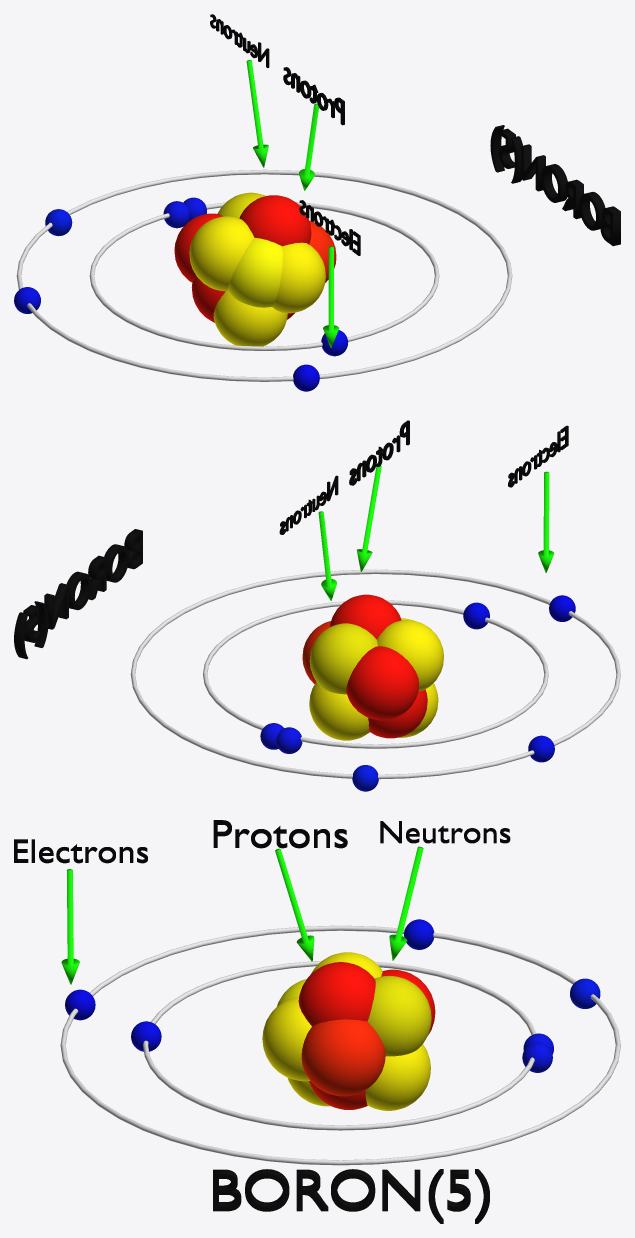
Rendered from Boron Atomic Model.gltf.
3 renders of one model, top to bottom at view 1: azimuth 30°, elevation 25°; view 2: azimuth 150°, elevation 25°; view 3: azimuth 270°, elevation 25°, orthographic. The views are drawn at different scales.
Parts seen in each view (by area): view 1: Torus.001, Text.003, Torus, Sphere.009, Sphere.003, Sphere, Sphere.007, Sphere.004, Sphere.010, Text.001, Text, Sphere.006 (+10 smaller); view 2: Torus.001, Text.003, Sphere.010, Torus, Sphere.001, Sphere.009, Sphere.008, Sphere.004, Sphere.006, Text.001, Text, Text.002 (+10 smaller); view 3: Torus.001, Text.003, Sphere.002, Torus, Sphere.001, Sphere.004, Sphere.008, Sphere, Text.001, Text, Text.002, Cylinder.001 (+10 smaller).
Boxes of the visible parts, x1,y1,x2,y2 form: Torus.001: (16, 169, 512, 381); Text.003: (490, 125, 620, 246); Torus: (89, 202, 439, 350); Sphere.009: (189, 216, 254, 291); Sphere.003: (228, 237, 282, 307); Sphere: (272, 242, 325, 313); Sphere.007: (213, 291, 287, 346); Sphere.004: (239, 195, 311, 246); Sphere.010: (174, 213, 222, 282); Text.001: (283, 67, 344, 125); Text: (299, 200, 360, 255); Sphere.006: (191, 278, 225, 322); Torus.001: (130, 569, 620, 779); Text.003: (14, 529, 142, 659); Sphere.010: (346, 646, 419, 720); Torus: (203, 600, 548, 748); Sphere.001: (309, 623, 377, 694); Sphere.009: (377, 620, 443, 691); Sphere.008: (309, 682, 369, 740); Sphere.004: (330, 594, 401, 639); Sphere.006: (368, 689, 427, 738); Text.001: (349, 420, 409, 485); Text: (508, 425, 568, 487); Text.002: (279, 475, 338, 534); Torus.001: (60, 925, 620, 1165); Text.003: (213, 1169, 489, 1223); Sphere.002: (301, 1019, 385, 1096); Torus: (143, 961, 536, 1130); Sphere.001: (367, 975, 431, 1056); Sphere.004: (298, 962, 375, 1026); Sphere.008: (365, 1044, 430, 1110); Sphere: (262, 997, 311, 1081); Text.001: (213, 820, 347, 848); Text: (14, 839, 147, 863); Text.002: (380, 821, 510, 843); Cylinder.001: (275, 848, 314, 961).
Bounding box in the file's own units: 4.2 × 2.11 × 3.79.
